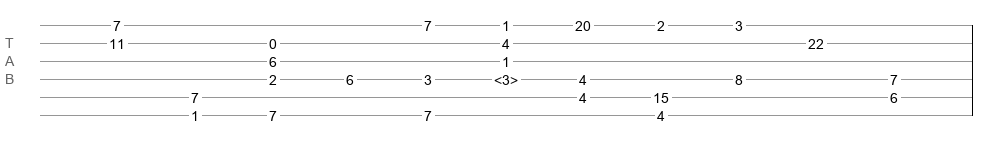0: (269, 36, 277, 46)
1: (191, 108, 199, 118), (502, 54, 510, 64), (502, 18, 510, 28)
11: (109, 36, 125, 46)
15: (653, 90, 669, 100)
2: (269, 72, 277, 82), (657, 18, 665, 28)
20: (575, 18, 591, 28)
22: (808, 36, 824, 46)
3: (424, 72, 432, 82), (735, 18, 743, 28)
4: (502, 36, 510, 46), (579, 72, 587, 82), (579, 90, 587, 100), (657, 108, 665, 118)
6: (269, 54, 277, 64), (346, 72, 354, 82), (890, 90, 898, 100)
7: (113, 18, 121, 28), (191, 90, 199, 100), (269, 108, 277, 118), (424, 18, 432, 28), (424, 108, 432, 118), (890, 72, 898, 82)
8: (735, 72, 743, 82)
harmonic: (494, 72, 518, 82)
